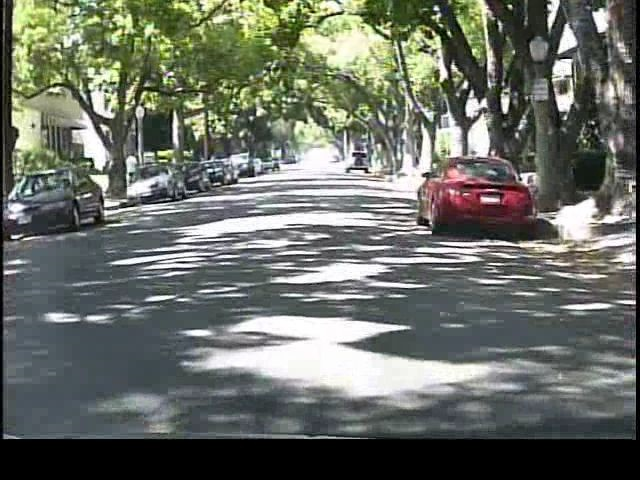person: (123, 148, 145, 194)
